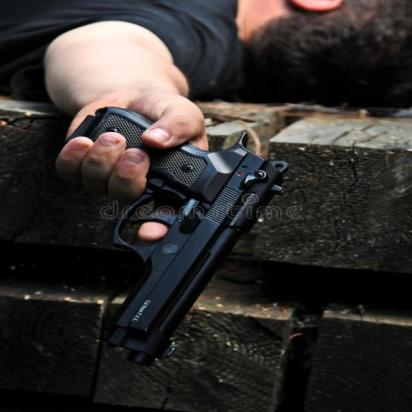Gun: (53, 101, 300, 372)
